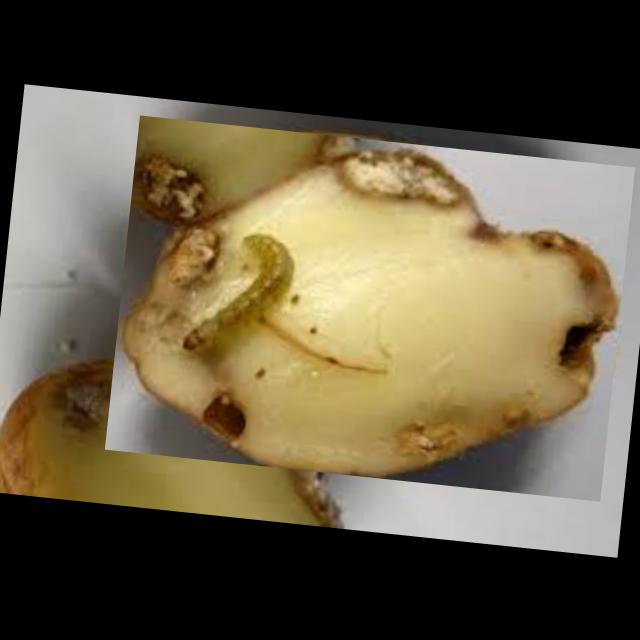Diseased-fungal potato: (104, 113, 634, 500)
